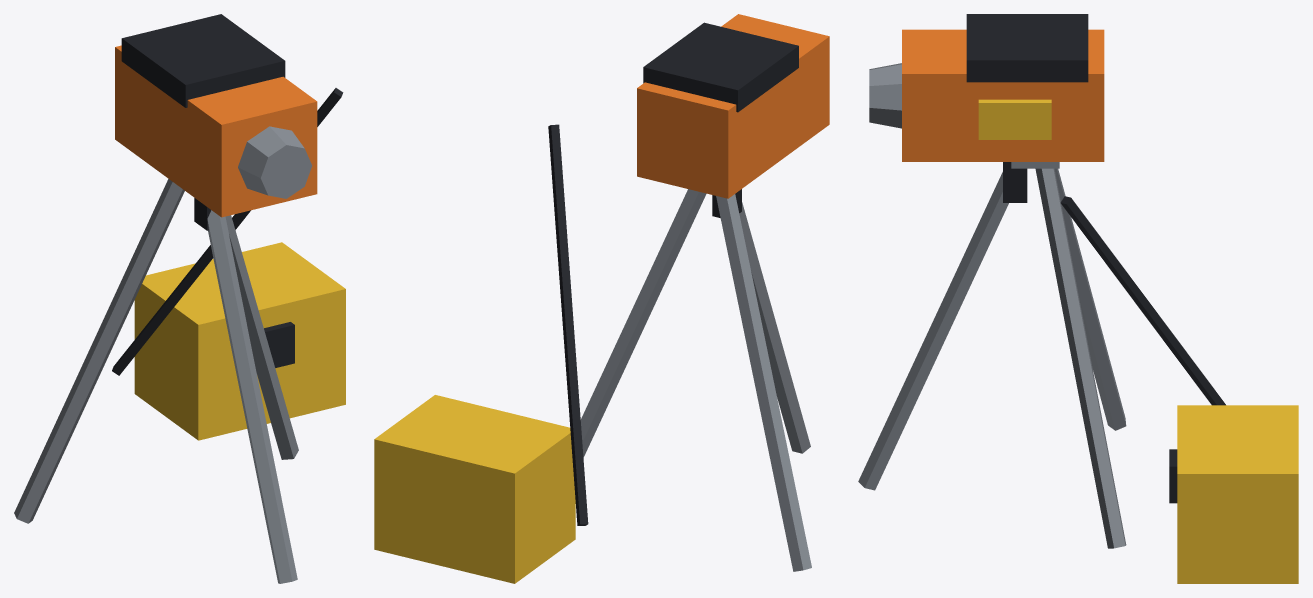
Rendered from bank_drill.glb.
The picture shows the model from 3 angles, left to right: view 1: azimuth 30°, elevation 25°; view 2: azimuth 150°, elevation 25°; view 3: azimuth 270°, elevation 25°; orthographic projection. The views are drawn at different scales.
Parts seen in each view (by area): view 1: generator_drill_yellow, stand_drill_steel, body_drill_orange, body_car_black, body_drill_steel, cable_car_black, generator_car_black; view 2: generator_drill_yellow, body_drill_orange, stand_drill_steel, body_car_black, cable_car_black; view 3: generator_drill_yellow, body_drill_orange, stand_drill_steel, body_car_black, cable_car_black, body_drill_yellow, body_drill_steel.
Boxes of the visible parts, box(x1,y1,x2,y2) form: generator_drill_yellow: box(134, 242, 345, 440); stand_drill_steel: box(14, 179, 298, 583); body_drill_orange: box(115, 45, 317, 217); body_car_black: box(121, 14, 285, 230); body_drill_steel: box(238, 126, 312, 198); cable_car_black: box(112, 88, 343, 375); generator_car_black: box(264, 322, 294, 367); generator_drill_yellow: box(374, 395, 575, 583); body_drill_orange: box(637, 14, 829, 198); stand_drill_steel: box(580, 189, 811, 571); body_car_black: box(643, 22, 798, 217); cable_car_black: box(548, 124, 588, 525); generator_drill_yellow: box(1177, 405, 1298, 583); body_drill_orange: box(902, 29, 1104, 161); stand_drill_steel: box(858, 162, 1126, 548); body_car_black: box(966, 14, 1088, 202); cable_car_black: box(1060, 196, 1225, 405); body_drill_yellow: box(978, 99, 1051, 139); body_drill_steel: box(869, 63, 901, 128).
Bounding box in the file's own units: 0.9827 × 1.23 × 1.09.
